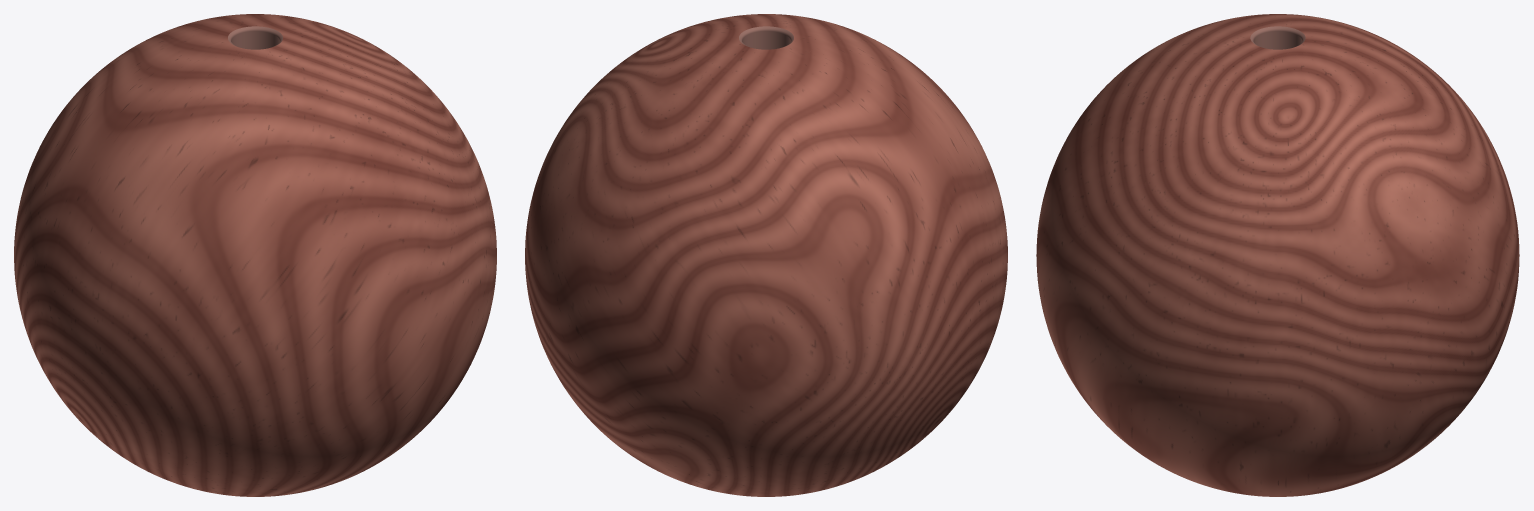
Rendered from wood-redbean-wood-10mm.glb.
3 views of the same model, side by side, from view 1: azimuth 30°, elevation 25°; view 2: azimuth 150°, elevation 25°; view 3: azimuth 270°, elevation 25° (orthographic).
Parts seen in each view (by area): view 1: redbean-wood; view 2: redbean-wood; view 3: redbean-wood.
Part boxes in pixels (x1,y1,x2,y2): redbean-wood: (14, 14, 496, 496); redbean-wood: (525, 14, 1007, 496); redbean-wood: (1036, 14, 1519, 496).
Bounding box in the file's own units: 0.01 × 0.00993 × 0.01.
2 materials, 1 textured.
